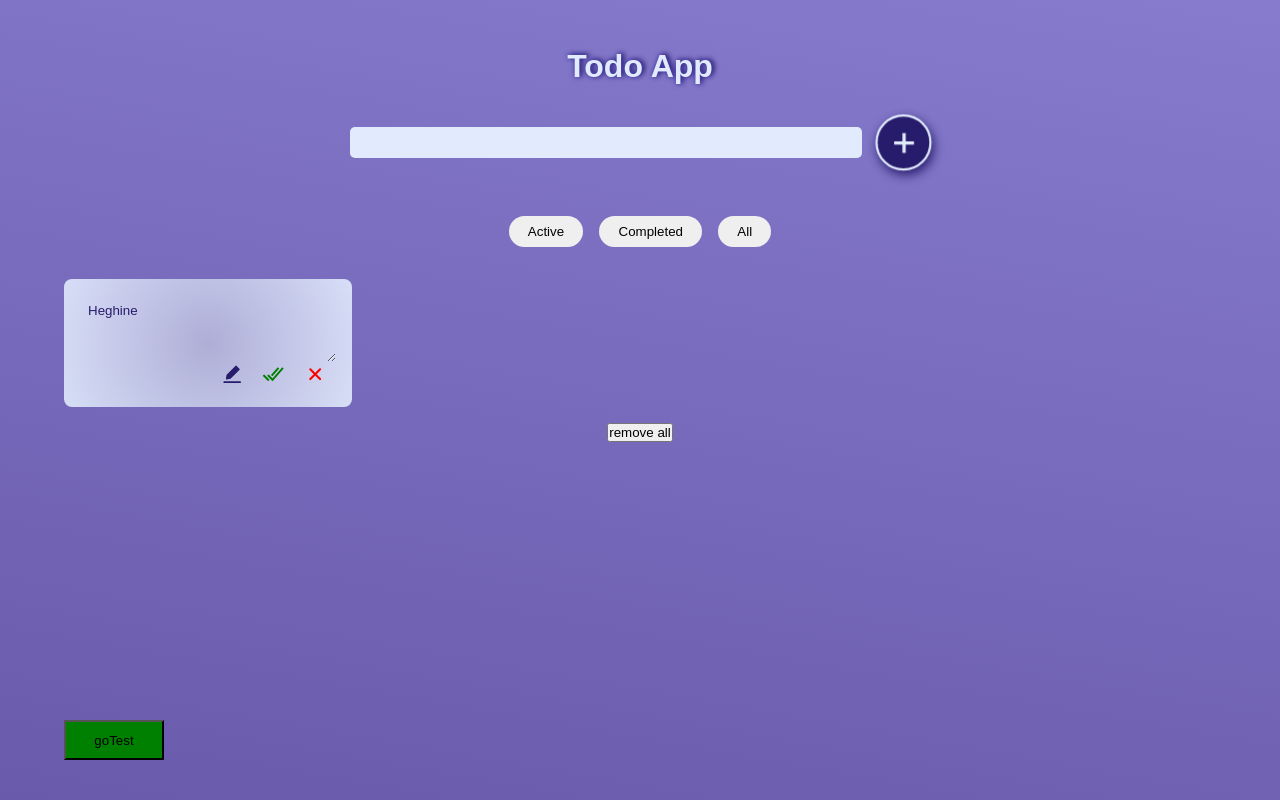
Test case: remove item › click button and remove item
The width and height of the screenshot is (1280, 800).
Click the 7th button.
click(315, 377)  # box [304,363,326,391]
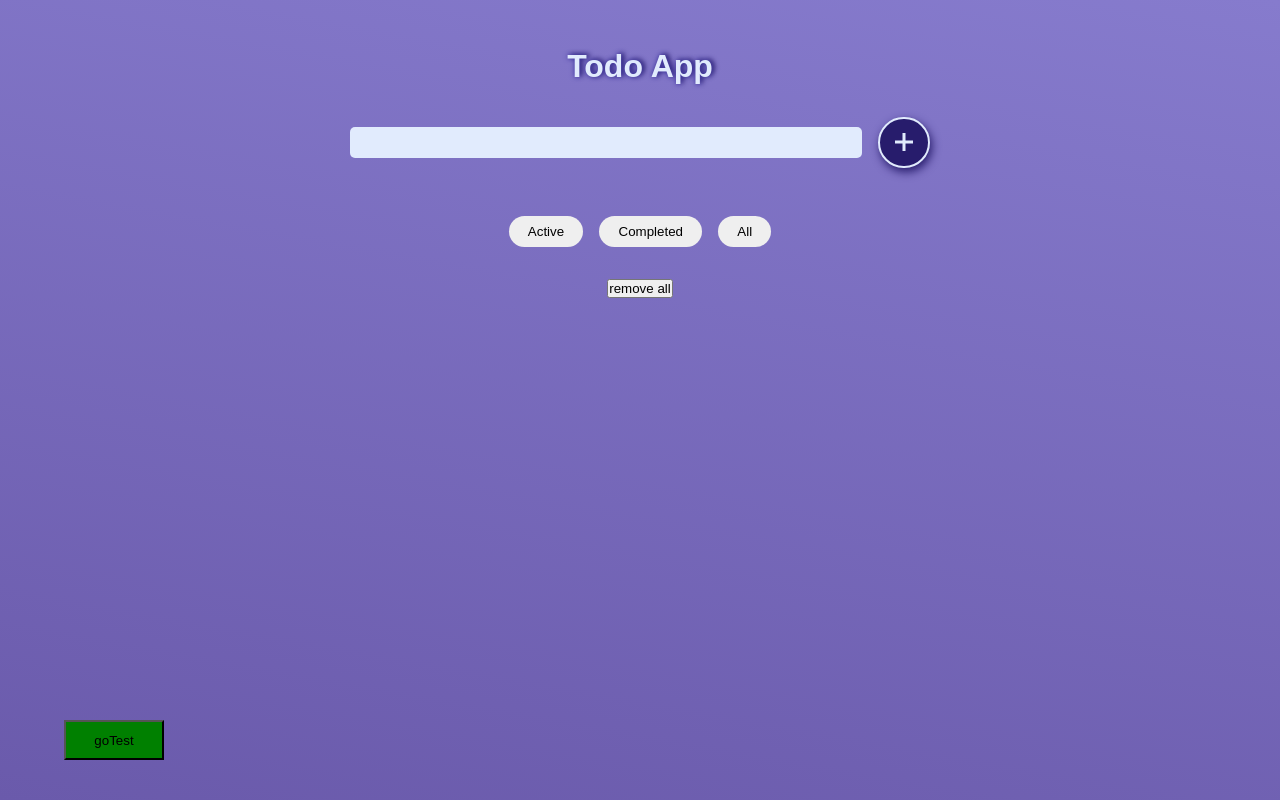
Now no list items are shown
